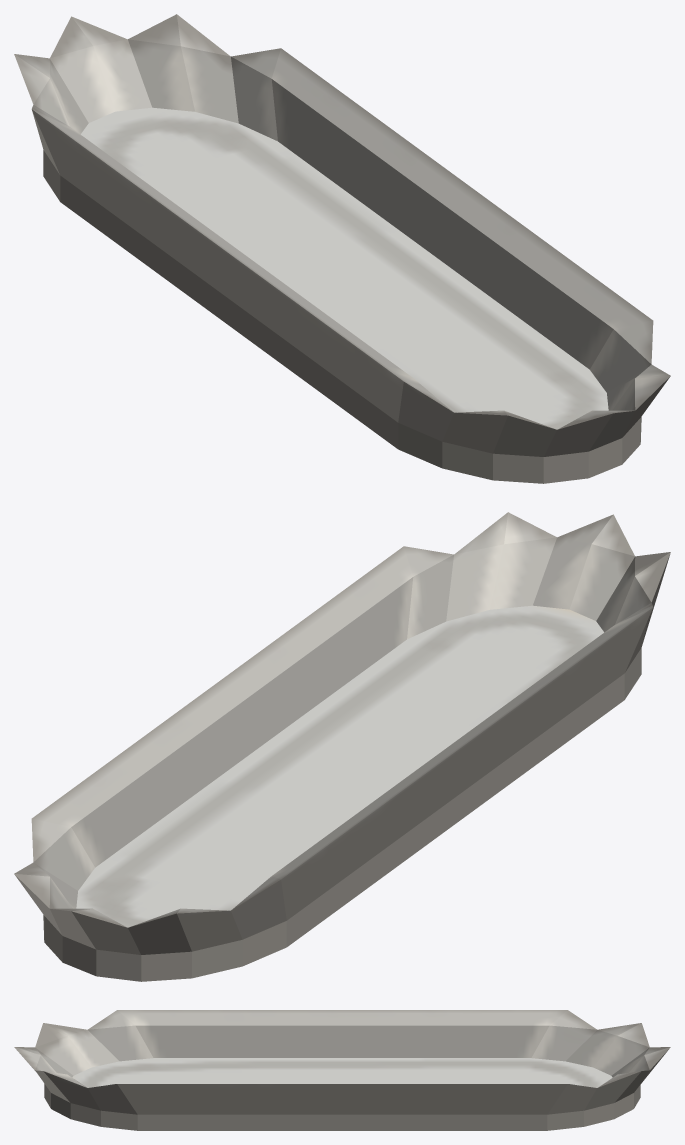
Rendered from Foods_Container.fbx.
3 renders of one model, top to bottom at view 1: azimuth 30°, elevation 25°; view 2: azimuth 150°, elevation 25°; view 3: azimuth 270°, elevation 25°, orthographic. The views are drawn at different scales.
Parts seen in each view (by area): view 1: Container; view 2: Container; view 3: Container.
Part boxes in pixels (x1,y1,x2,y2): Container: (14,14,670,483); Container: (14,512,670,981); Container: (14,1010,670,1130).
Size of the model in its own units: 217 by 817 by 69.24.
Materials: 1 (1 with a texture image).
